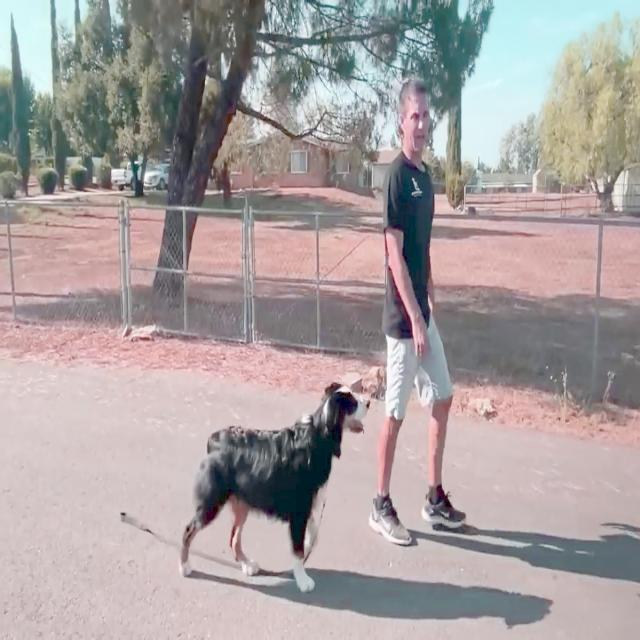Unleashed_Dog: (178, 336, 429, 596)
